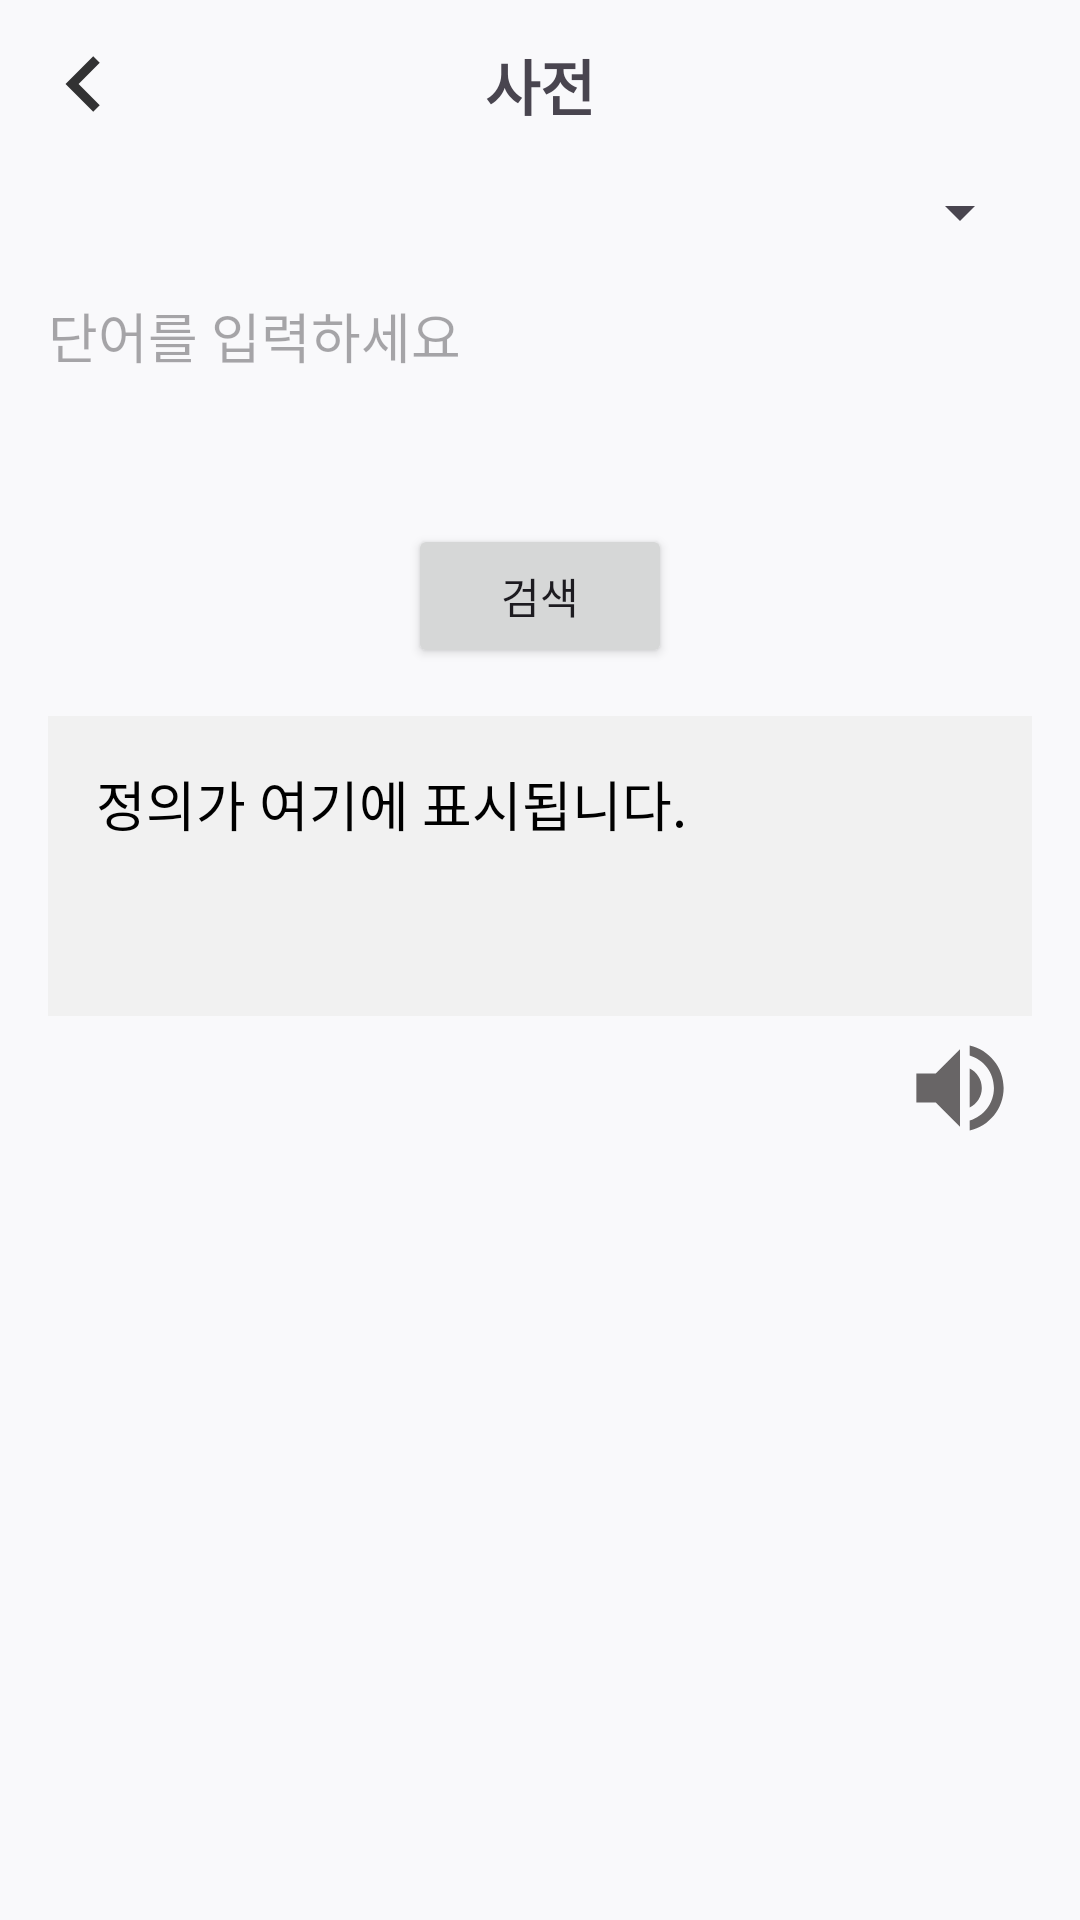

Screen size 1080 x 1920. Icon name, then its box in pixels as box=[x1, y1, x2, y2]:
back: box=[66, 56, 100, 112]
volume: box=[916, 1045, 1004, 1131]
